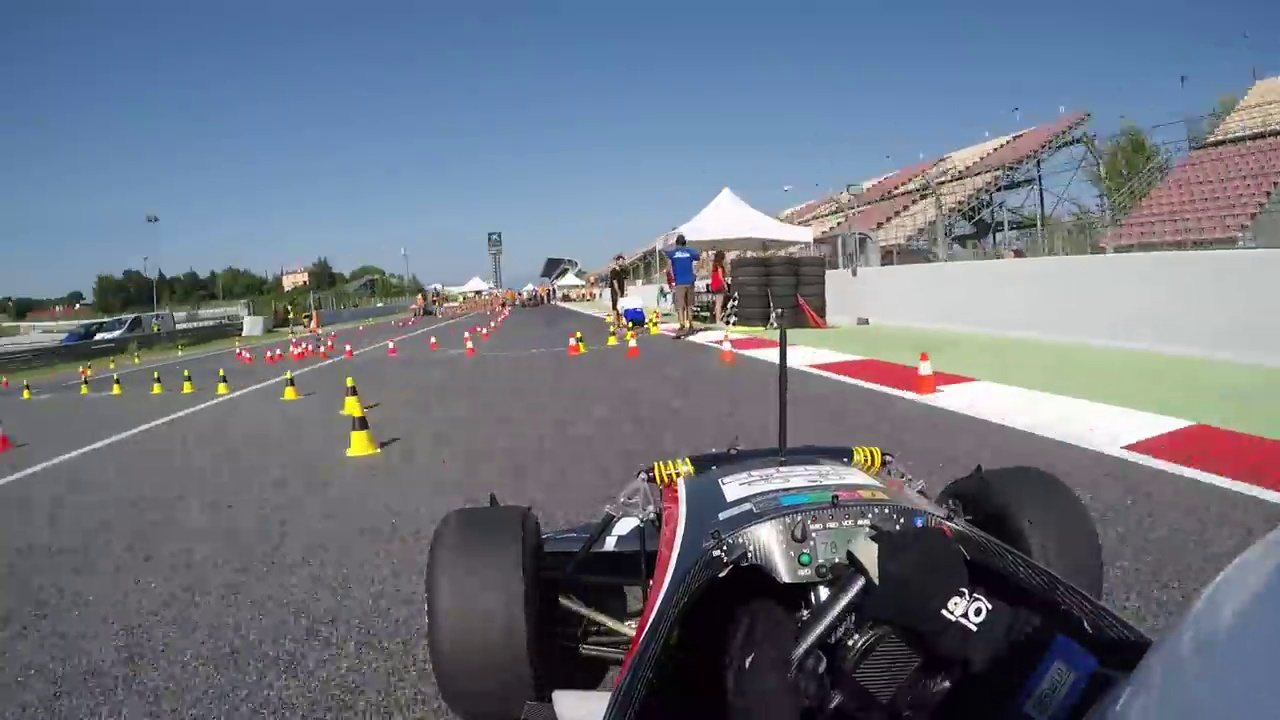Cone: (344, 398, 381, 458), (913, 347, 944, 399), (340, 372, 367, 413), (279, 368, 307, 402), (179, 364, 197, 394), (213, 366, 230, 397)
